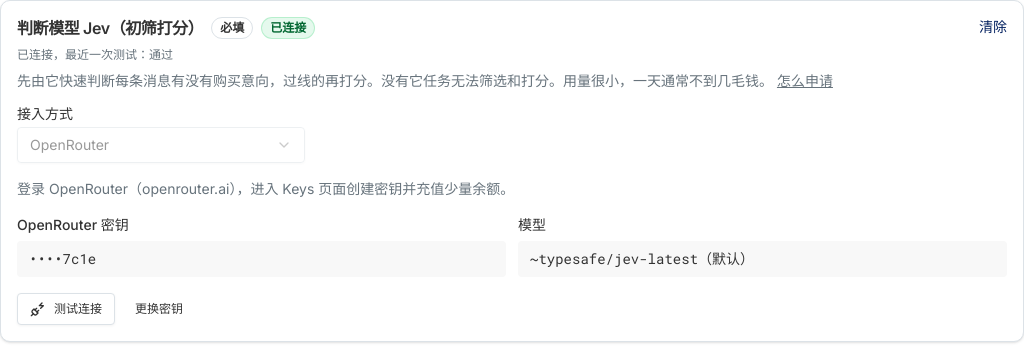
Test case: GrowthCredentialCard › asks a relay for its models with the saved key and offers them to pick
Click the button "更换密钥". click: (159, 309)
box: 123,293 -> 195,325
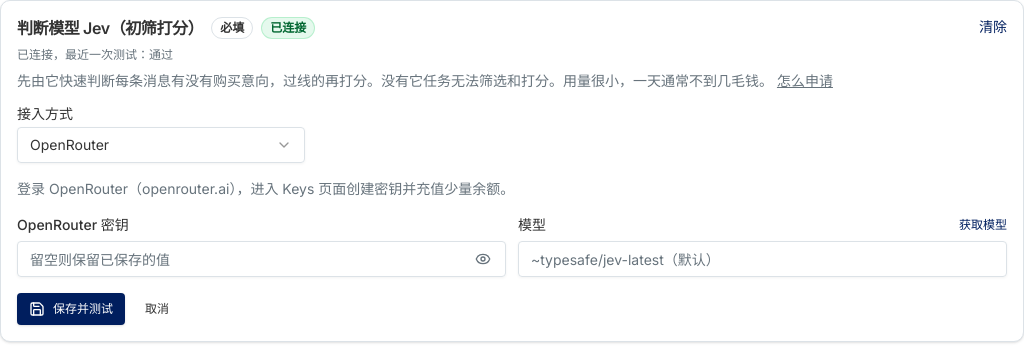
Click the button "获取模型". click: (983, 225)
box: 959,217 -> 1007,233
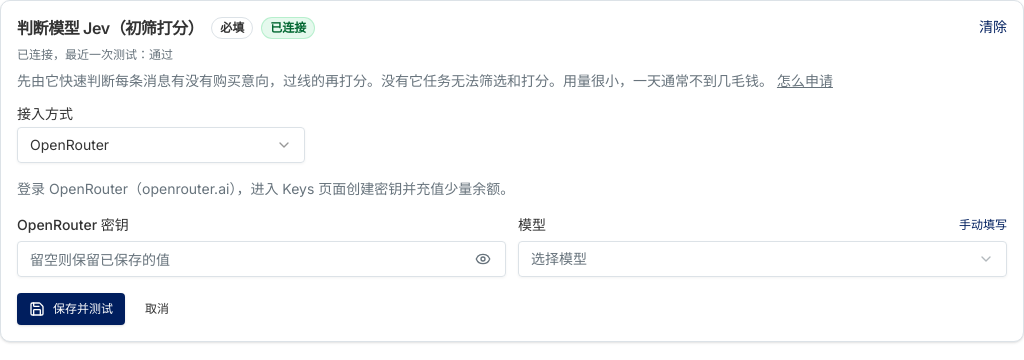
Expected: the password field labelled "OpenRouter 密钥" is empty, 18,241 -> 467,277
Expected: the dropdown labelled "模型" reads "选择模型", 518,241 -> 1007,277
